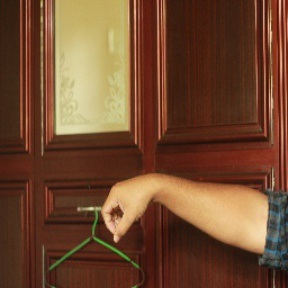O: (97, 174, 154, 249)
